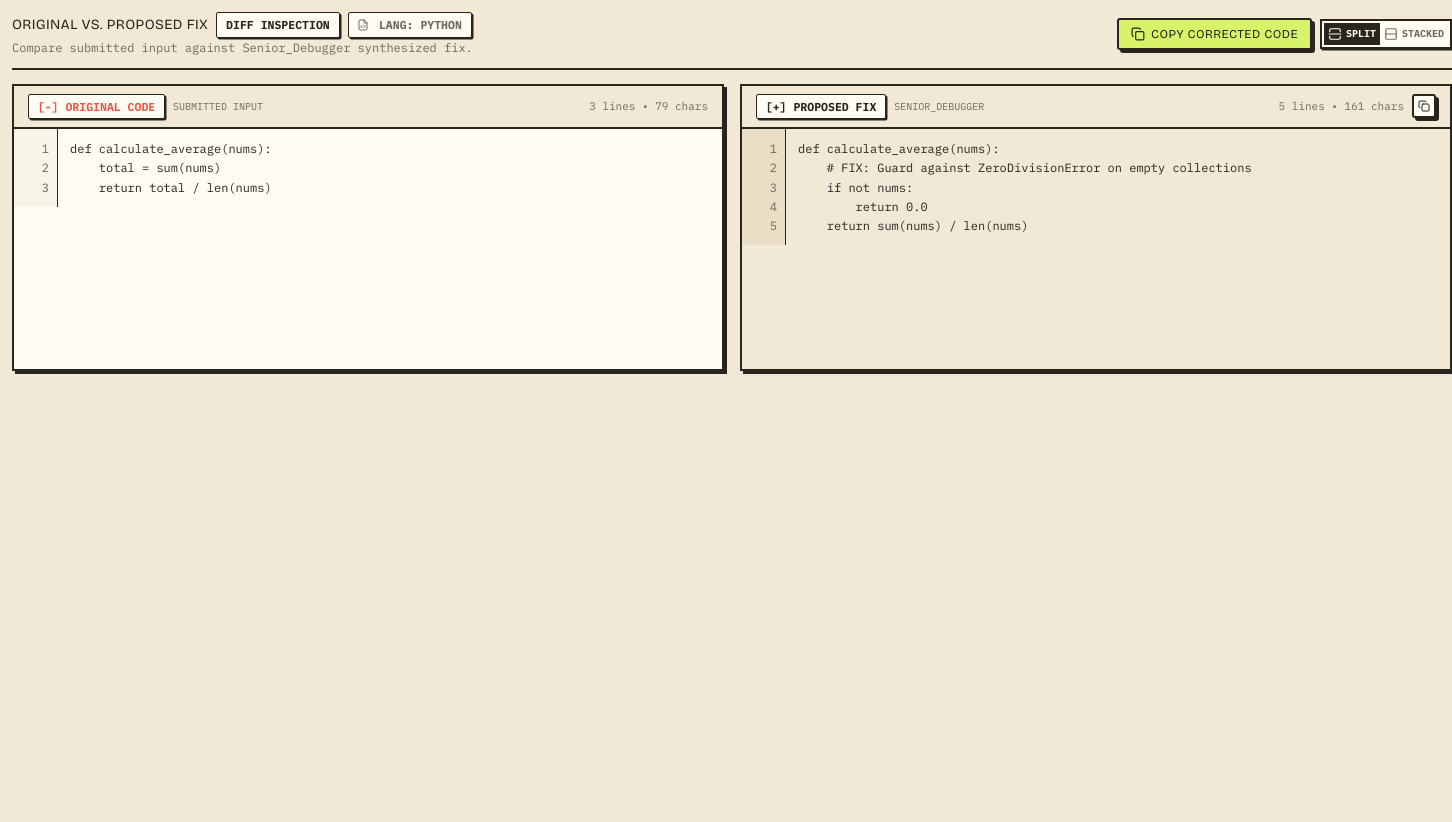
SideBySideComparison & Copy Corrected Code Suite › toggles layout modes between SPLIT (columns) and STACKED (rows)
Check: the element with class "grid-cols-1" is shown, box [12,84,1451,371]
Note: Click Stacked
Click the button with aria-label "stacked rows view": click(1414, 34) [1380,23,1448,45]
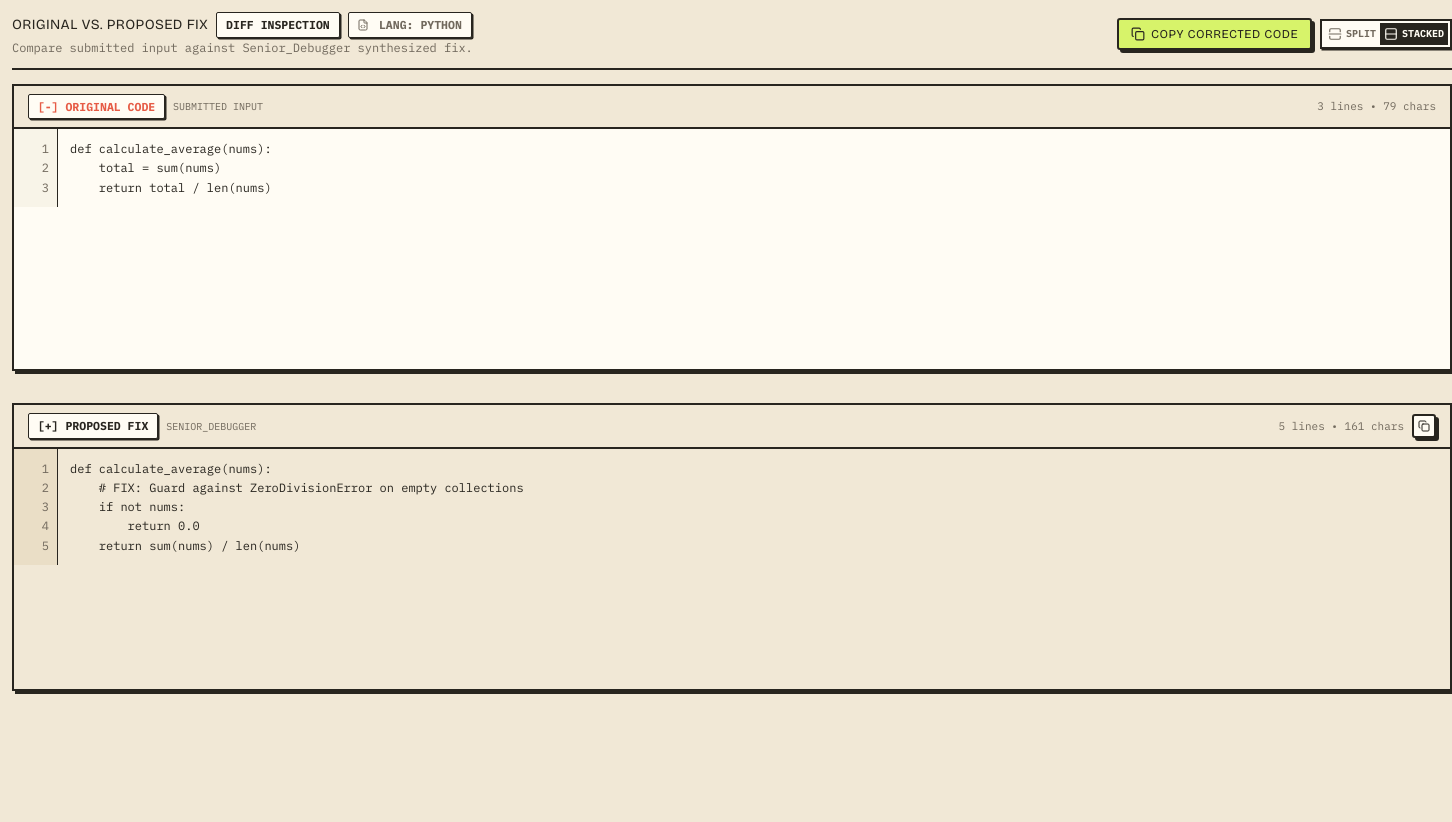
Note: Click Split back
Click the button with aria-label "side-by-side columns view": click(1352, 34) [1324,23,1380,45]
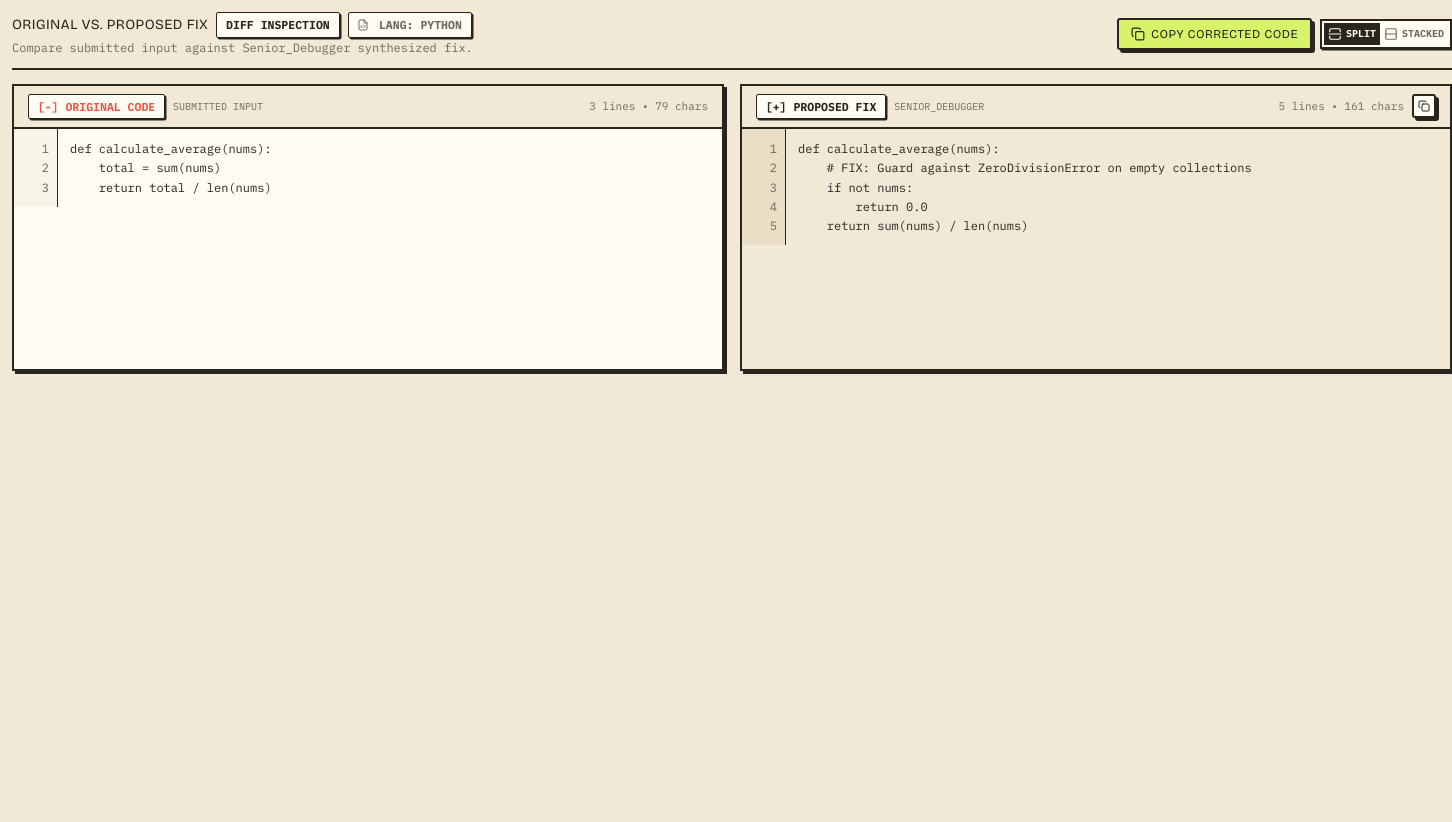
Check: the element with class "grid-cols-1" is shown, box [12,84,1451,371]
